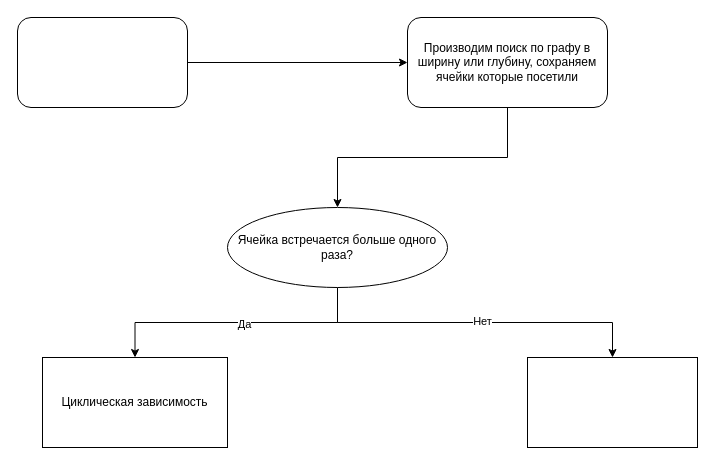
The diagram is 715 pixels wide and 465 high, and some of its shapes have lost their labels. Each missing label, with the box of its shape:
Добавляем новую ячейку с зависимостью: (16, 16, 188, 108)
Циклической зависимости нет: (526, 356, 698, 448)
